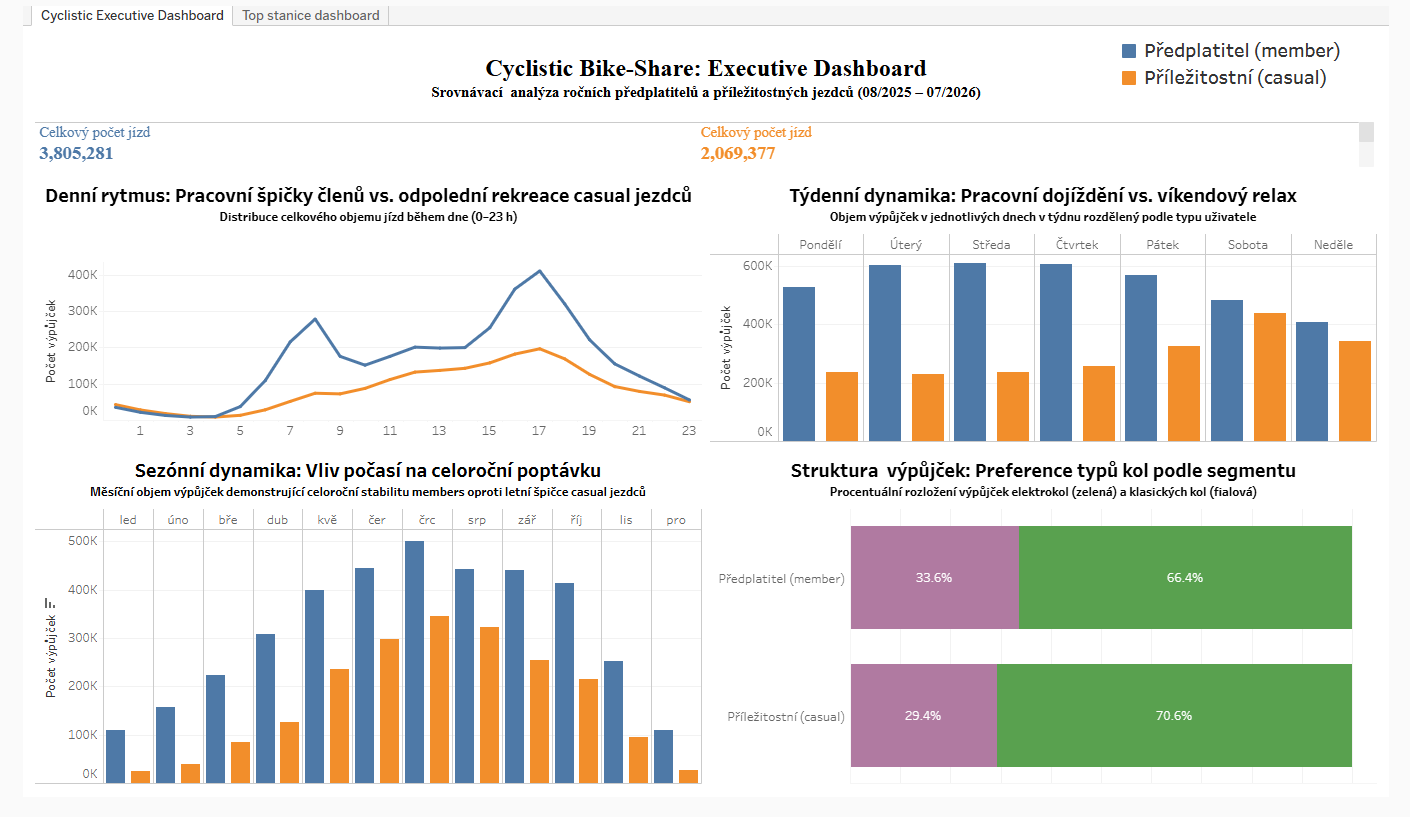

What the dashboard file says about the page in this screenshot:
{"tool":"tableau","page":{"name":"Cyclistic Executive Dashboard","canvas":[1366,768],"ordinal":0},"visuals":[{"type":"title","box":[8,8,1350,82]},{"type":"legend","title":"Denní přehled","param":"[federated.1nql6jg0560g7z1d6lotv1i2ad0u].[none:member_casual:nk]","box":[1092,9,268,78]},{"type":"worksheet","title":"KPI přehled","mark":"Text","cols":["member_casual"],"box":[8,90.2,1350,52.6]},{"type":"worksheet","title":"Hodinový  přehled","mark":"Line","rows":["total_trips"],"cols":["start_hour"],"box":[8,143,675,275]},{"type":"worksheet","title":"Denní přehled","mark":"Bar","rows":["total_trips"],"cols":["day_of_week_name","member_casual"],"box":[683,143,675,275]},{"type":"worksheet","title":"Měsíční přehled","mark":"Automatic","rows":["total_trips"],"cols":["month_name","member_casual"],"box":[8,418,675,342]},{"type":"worksheet","title":"Typ kol a okruhy/neokruhy","mark":"Bar","rows":["member_casual"],"cols":["total_trips"],"box":[683,418,675,342]}]}

Visuals, with their boxes on the page's 1366x768 design canvas (x1, y1, x2, y2). These are canvas units, not pixel positions in the 1410x817 screenshot, which may show the page scaled, cropped or inside an application window:
title: {"left": 8, "top": 8, "right": 1358, "bottom": 90}
"Denní přehled" legend: {"left": 1092, "top": 9, "right": 1360, "bottom": 87}
"KPI přehled" worksheet (Text marks): {"left": 8, "top": 90, "right": 1358, "bottom": 143}
"Hodinový  přehled" worksheet (Line marks): {"left": 8, "top": 143, "right": 683, "bottom": 418}
"Denní přehled" worksheet (Bar marks): {"left": 683, "top": 143, "right": 1358, "bottom": 418}
"Měsíční přehled" worksheet: {"left": 8, "top": 418, "right": 683, "bottom": 760}
"Typ kol a okruhy/neokruhy" worksheet (Bar marks): {"left": 683, "top": 418, "right": 1358, "bottom": 760}
